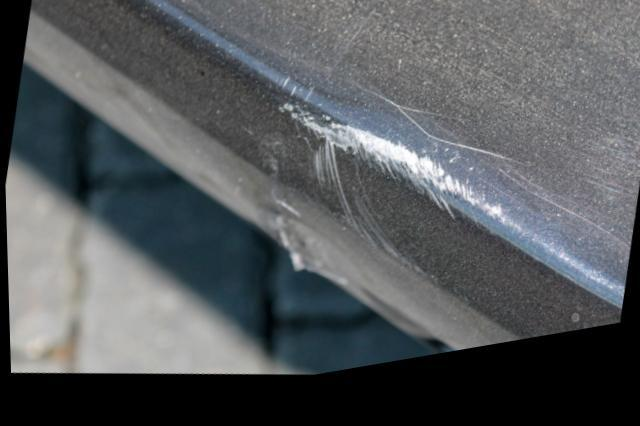scratch: (283, 104, 527, 296)
